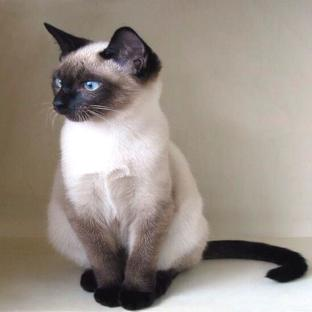Animal: (46, 23, 307, 310)
